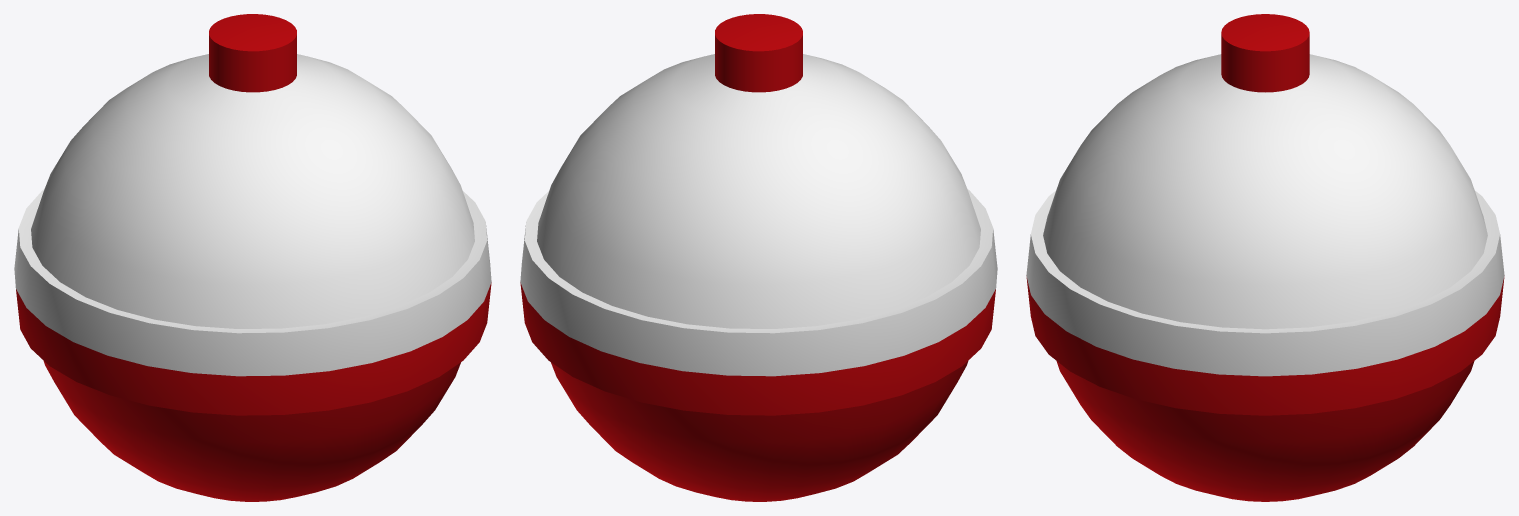
Rendered from bobber.glb.
3 renders of one model, left to right at view 1: azimuth 30°, elevation 25°; view 2: azimuth 150°, elevation 25°; view 3: azimuth 270°, elevation 25°, orthographic.
Visible parts, largest first — view 1: Sphere; view 2: Sphere; view 3: Sphere.
Boxes of the visible parts, x1,y1,x2,y2 form: Sphere: (14,14,491,501); Sphere: (520,14,997,501); Sphere: (1026,14,1504,501).
Size of the model in its own units: 0.0527 by 0.055 by 0.0527.
Materials: 1 (1 with a texture image).
